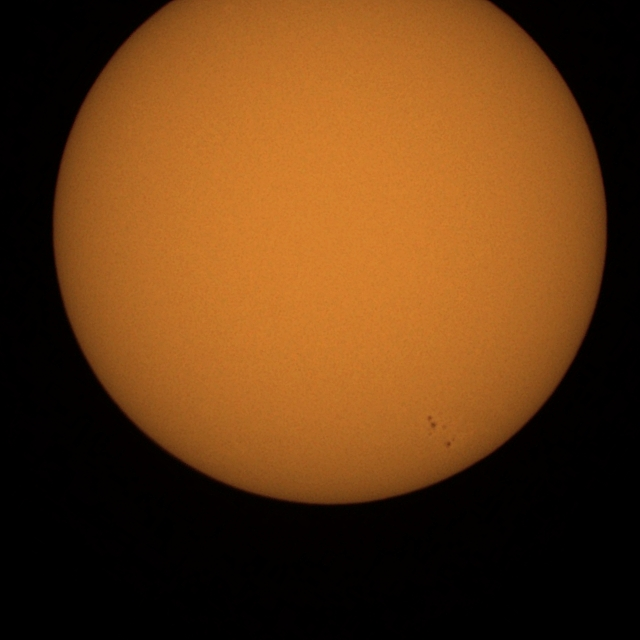sunspot: (426, 414, 452, 445), (426, 414, 438, 431), (445, 436, 455, 449)
